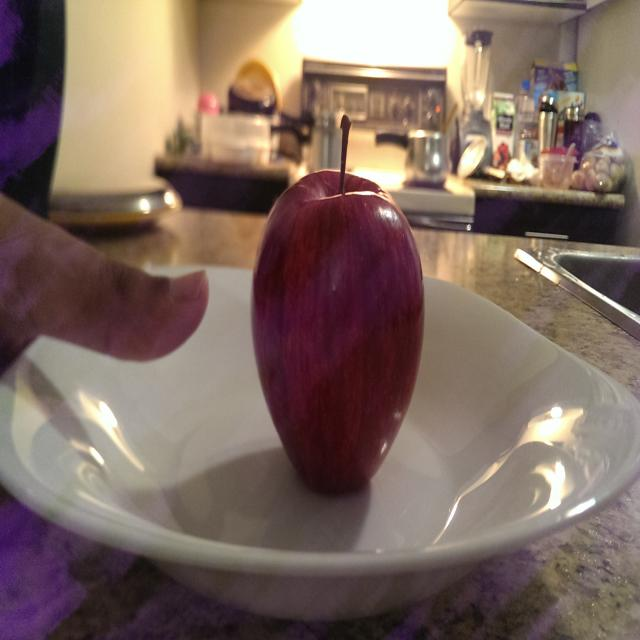apple: (245, 108, 430, 503)
